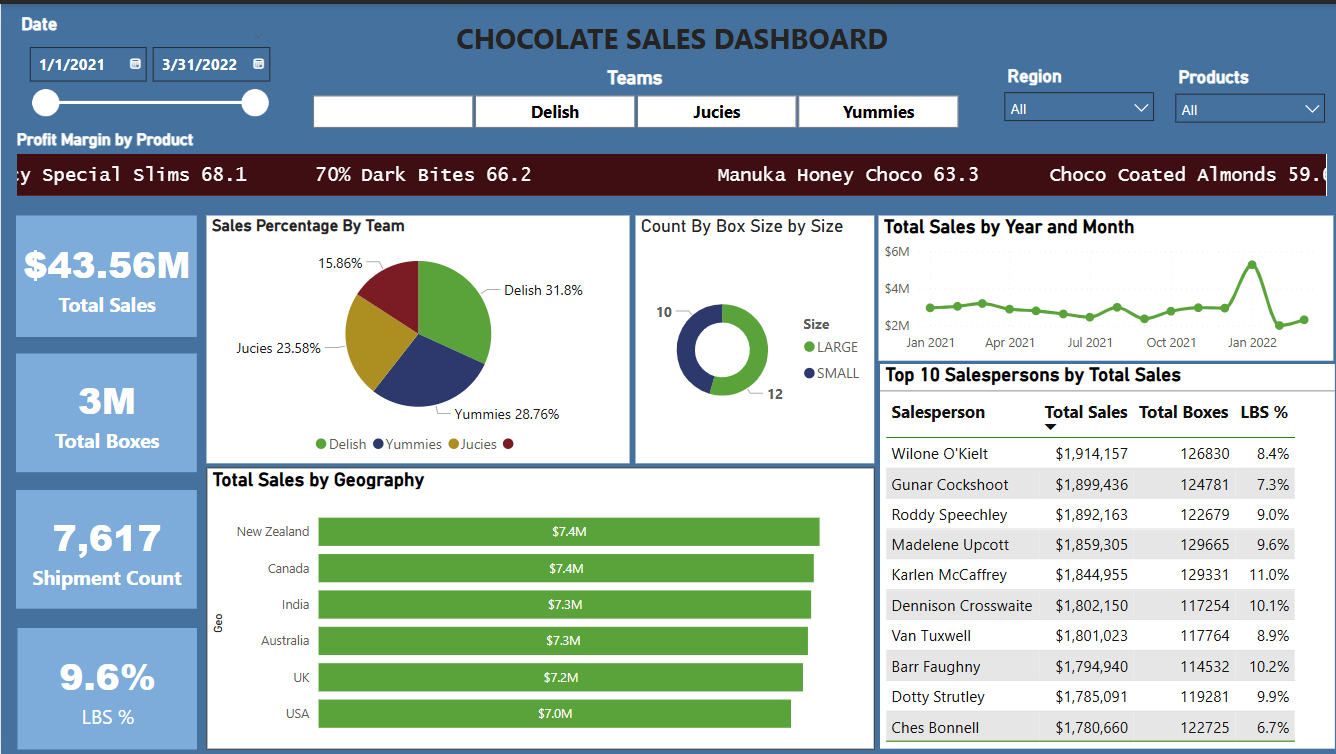

This screenshot's page, from the dashboard's own definition file:
{"tool":"powerbi","page":{"name":"Page 1","canvas":[1280,720],"ordinal":0},"visuals":[{"type":"card","fields":{"Values":["sales.Total Boxes"]},"box":[14.2,333.1,172.9,113.4],"z":1000},{"type":"card","fields":{"Values":["sales.LBS %"]},"box":[15.6,595.3,171.5,116.2],"z":2000},{"type":"card","fields":{"Values":["sales.Shipment Count"]},"box":[14.2,463.5,172.9,113.4],"z":3000},{"type":"lineChart","fields":{"Category":["sales.SaleDate.Variation.Date Hierarchy.Year","sales.SaleDate.Variation.Date Hierarchy.Month"],"Y":["sales.Total Sales"]},"box":[837.6,201.3,435.1,138.9],"z":4000},{"type":"barChart","title":"Total Sales by Geography","fields":{"Category":["geo.Geo"],"Y":["sales.Total Sales"]},"box":[195.6,442.2,637.8,269.3],"z":5000},{"type":"tableEx","title":"Top 10 Salespersons by Total Sales","fields":{"Values":["people.Salesperson","sales.Total Sales","sales.Total Boxes","sales.LBS %"]},"box":[839.1,344.4,435.1,367.1],"z":6000},{"type":"card","fields":{"Values":["sales.Total Sales"]},"box":[14.2,201.3,172.9,116.2],"z":7000},{"type":"slicer","fields":{"Values":["products.Product"]},"box":[1111.2,53.9,163,65.2],"z":8000},{"type":"slicer","fields":{"Values":["geo.Region"]},"box":[948.2,52.4,163,68],"z":9000},{"type":"slicer","title":"Date","fields":{"Values":["sales.SaleDate"]},"box":[14.2,8.5,249.4,137.5],"z":10000},{"type":"slicer","title":"Teams","fields":{"Values":["people.Team"]},"box":[272.1,59.5,666.1,65.2],"z":11000},{"type":"ScrollingTextVisual1448795304508","fields":{"Category":["products.Product"],"Measure Absolute":["sales.Profit Margin"]},"box":[9.9,120.5,1260,68],"z":12000},{"type":"pieChart","title":"Sales Percentage By Team","fields":{"Category":["people.Team"],"Y":["sales.SalesPercentageByTeam"]},"box":[195.6,201.3,403.9,236.7],"z":13000},{"type":"donutChart","fields":{"Category":["products.Size"],"Y":["geo.Count By Box Size"]},"box":[605.2,201.3,228.2,236.7],"z":14000},{"type":"textbox","box":[413.9,8.5,453.5,51],"z":14001}]}

Visuals, with their boxes in screenshot pixels (x1, y1, x2, y2), scaled from the page's 1280x720 canvas onto the 1336x754 screenshot:
card - sales.Total Boxes: detection(15, 349, 195, 468)
card - sales.LBS %: detection(16, 623, 195, 745)
card - sales.Shipment Count: detection(15, 485, 195, 604)
lineChart - sales.SaleDate.Variation.Date Hierarchy.Year x sales.SaleDate.Variation.Date Hierarchy.Month: detection(874, 211, 1328, 356)
"Total Sales by Geography" barChart: detection(204, 463, 870, 745)
"Top 10 Salespersons by Total Sales" tableEx: detection(876, 361, 1330, 745)
card - sales.Total Sales: detection(15, 211, 195, 332)
slicer - products.Product: detection(1160, 56, 1330, 125)
slicer - geo.Region: detection(990, 55, 1160, 126)
"Date" slicer: detection(15, 9, 275, 153)
"Teams" slicer: detection(284, 62, 979, 131)
ScrollingTextVisual1448795304508 - products.Product x sales.Profit Margin: detection(10, 126, 1325, 197)
"Sales Percentage By Team" pieChart: detection(204, 211, 626, 459)
donutChart - products.Size x geo.Count By Box Size: detection(632, 211, 870, 459)
textbox: detection(432, 9, 905, 62)
